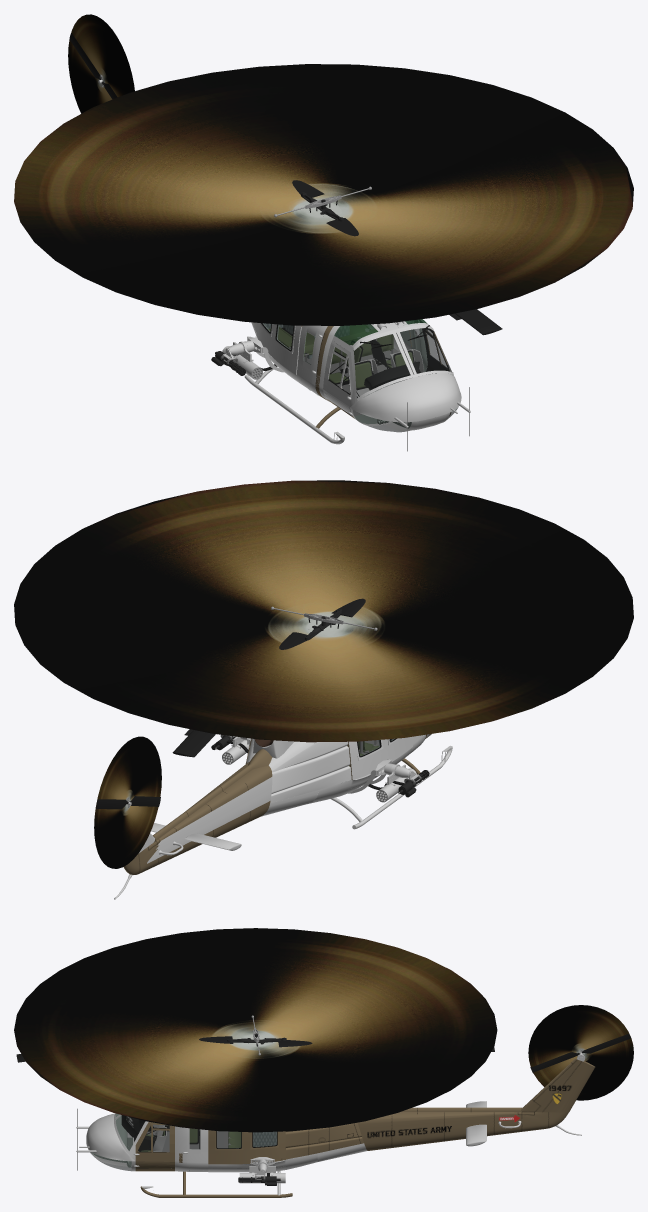
Rendered from viet_uh-1d.fbx.
3 renders of one model, top to bottom at view 1: azimuth 30°, elevation 25°; view 2: azimuth 150°, elevation 25°; view 3: azimuth 270°, elevation 25°, orthographic. The views are drawn at different scales.
Parts seen in each view (by area): view 1: prop_fly, main, grass, prop_ground, pilot_door, side_door_r, viet_arms, co_pilot_door; view 2: prop_fly, main, viet_arms, prop_ground, side_door_r, sub_prop; view 3: prop_fly, main, side_door_l, co_pilot_door, grass, viet_arms, prop_ground, sub_prop.
Boxes of the visible parts, <box> form: prop_fly: <box>14,14,633,325</box>; main: <box>98,79,470,451</box>; grass: <box>304,319,458,432</box>; prop_ground: <box>274,180,502,335</box>; pilot_door: <box>323,340,353,416</box>; side_door_r: <box>256,323,302,374</box>; viet_arms: <box>211,320,427,379</box>; co_pilot_door: <box>419,320,449,373</box>; prop_fly: <box>14,480,633,868</box>; main: <box>114,734,452,899</box>; viet_arms: <box>211,734,429,802</box>; prop_ground: <box>172,598,377,757</box>; side_door_r: <box>347,737,412,779</box>; sub_prop: <box>95,796,160,809</box>; prop_fly: <box>14,928,633,1132</box>; main: <box>76,1052,595,1197</box>; side_door_l: <box>208,1130,285,1164</box>; co_pilot_door: <box>135,1122,174,1168</box>; grass: <box>90,1114,200,1170</box>; viet_arms: <box>238,1157,285,1185</box>; prop_ground: <box>16,1015,494,1062</box>; sub_prop: <box>530,1034,630,1073</box>.
Bounding box in the file's own units: 157418 × 60322 × 201877.
